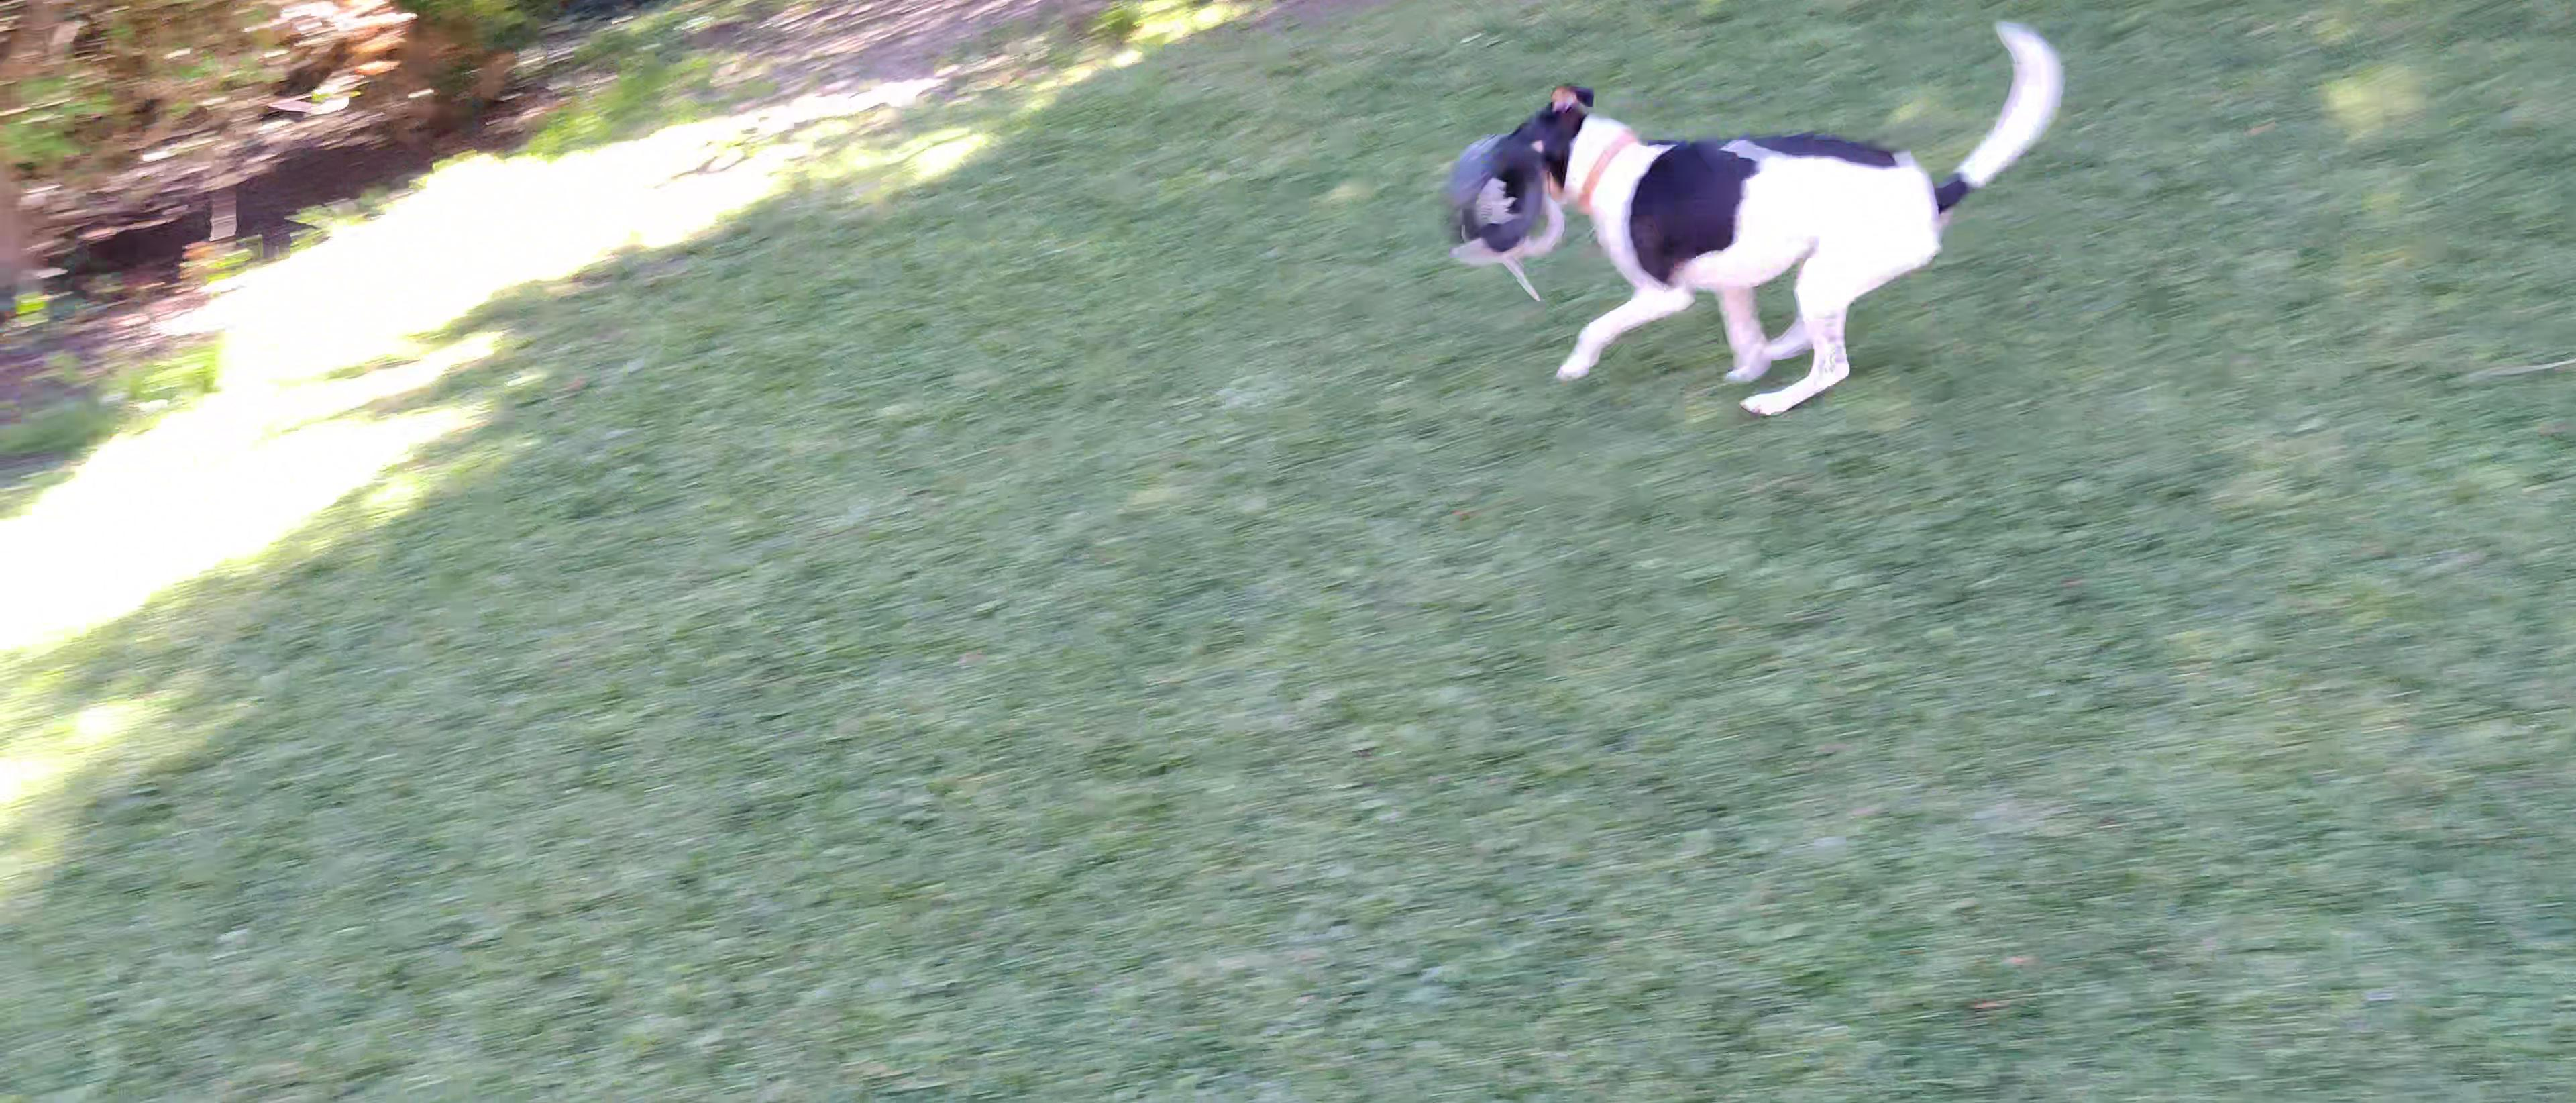Dog: (1470, 12, 2078, 427)
